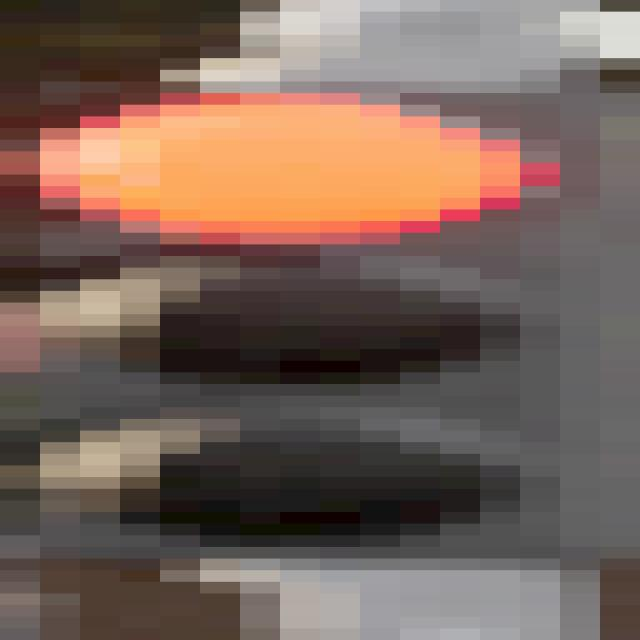red_light: (0, 82, 640, 570)
